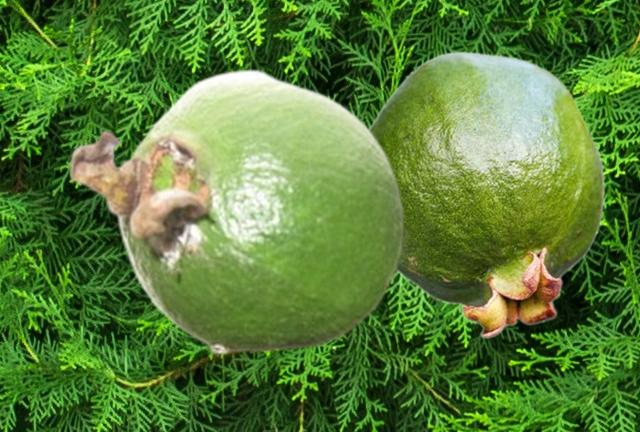guava: (67, 67, 406, 354), (368, 51, 604, 338)
